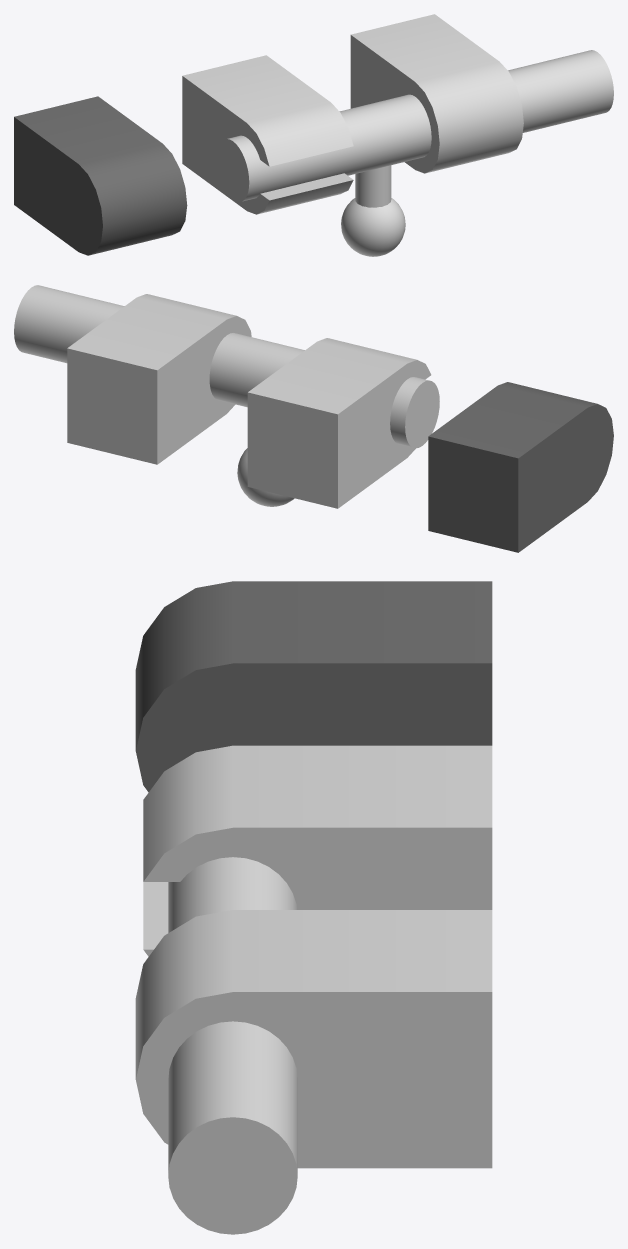
The model's file is SwipeLock.fbx.
3 views of the same model, one above another, from view 1: azimuth 30°, elevation 25°; view 2: azimuth 150°, elevation 25°; view 3: azimuth 270°, elevation 25° (orthographic). The views are drawn at different scales.
Parts seen in each view (by area): view 1: Cube.003, Cube.002, Cube.001; view 2: Cube.003, Cube.002, Cube.001; view 3: Cube.003, Cube.002, Cube.001.
Boxes of the visible parts, bbox=[...] form: Cube.003: bbox=[182, 14, 523, 214]; Cube.002: bbox=[14, 96, 187, 255]; Cube.001: bbox=[217, 50, 613, 256]; Cube.003: bbox=[67, 294, 431, 508]; Cube.002: bbox=[428, 382, 613, 552]; Cube.001: bbox=[14, 285, 439, 506]; Cube.003: bbox=[135, 745, 492, 1168]; Cube.002: bbox=[135, 581, 492, 792]; Cube.001: bbox=[168, 857, 297, 1234].
Size of the model in its own units: 185 by 55 by 55.
1 material, 1 textured.
